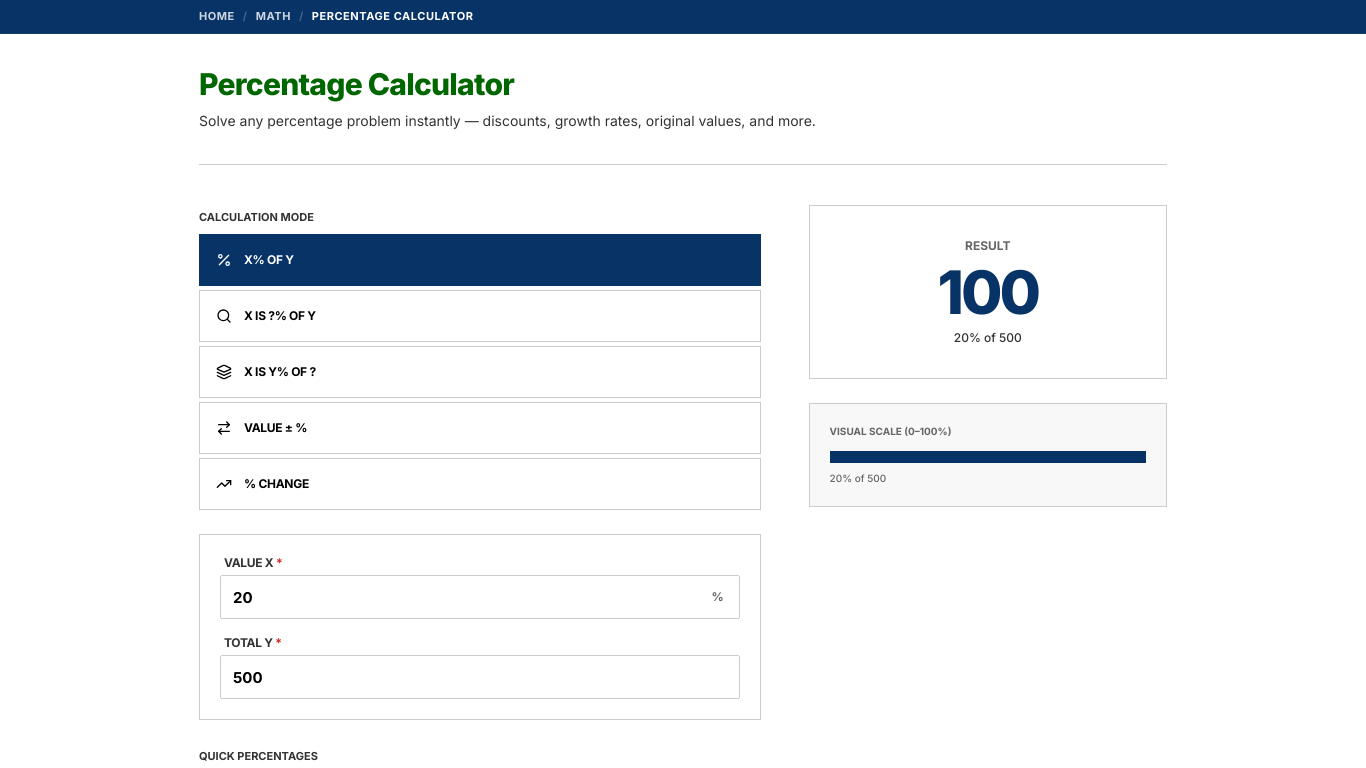
Test: Percentage Calculator Accuracy Test Suite › Type 1: What is X% of Y? (15% of 2500 = 375)
Type 1: Val1 (15) and Val2 (2500)
Replace the text in the number field labelled "Value X *" with "15": [480, 597] box [220,575,740,619]
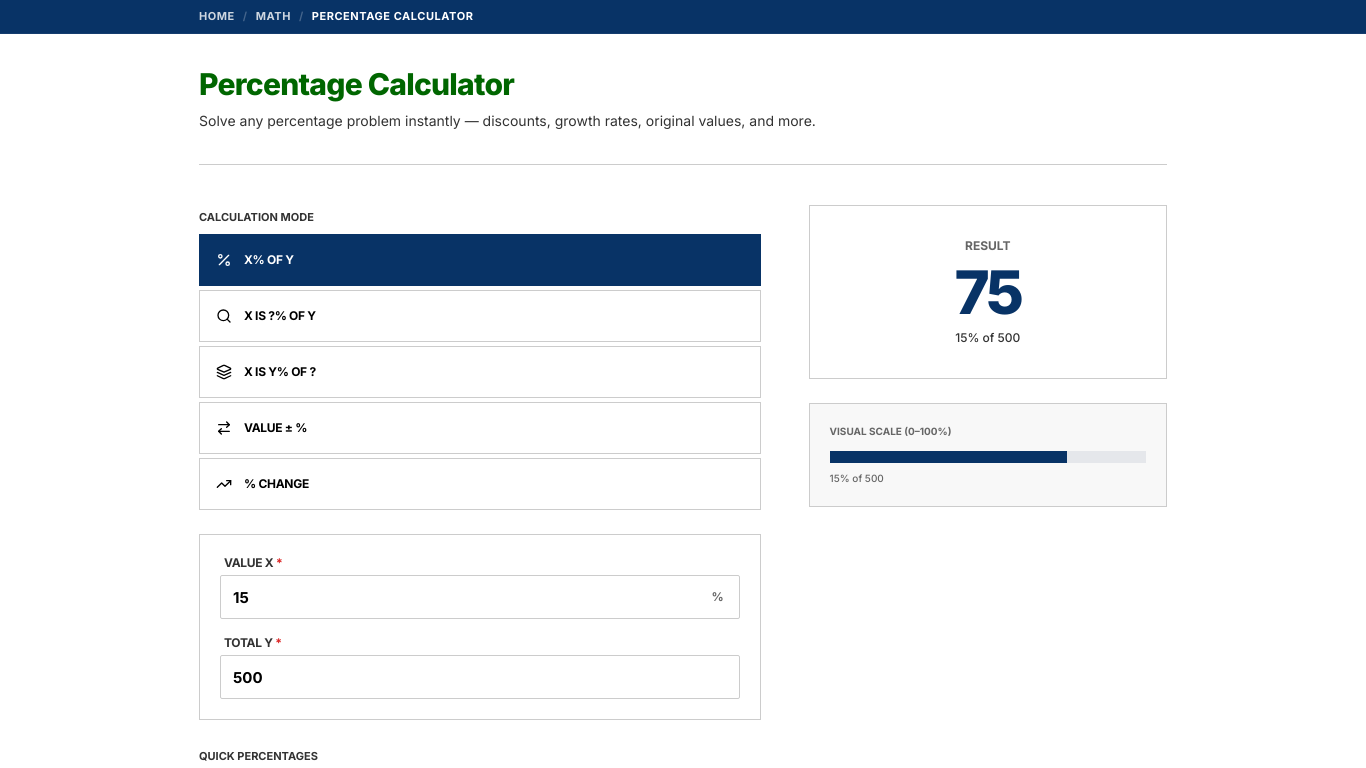
Replace the text in the number field labelled "Total Y *" with "2500": [480, 677] box [220,655,740,699]
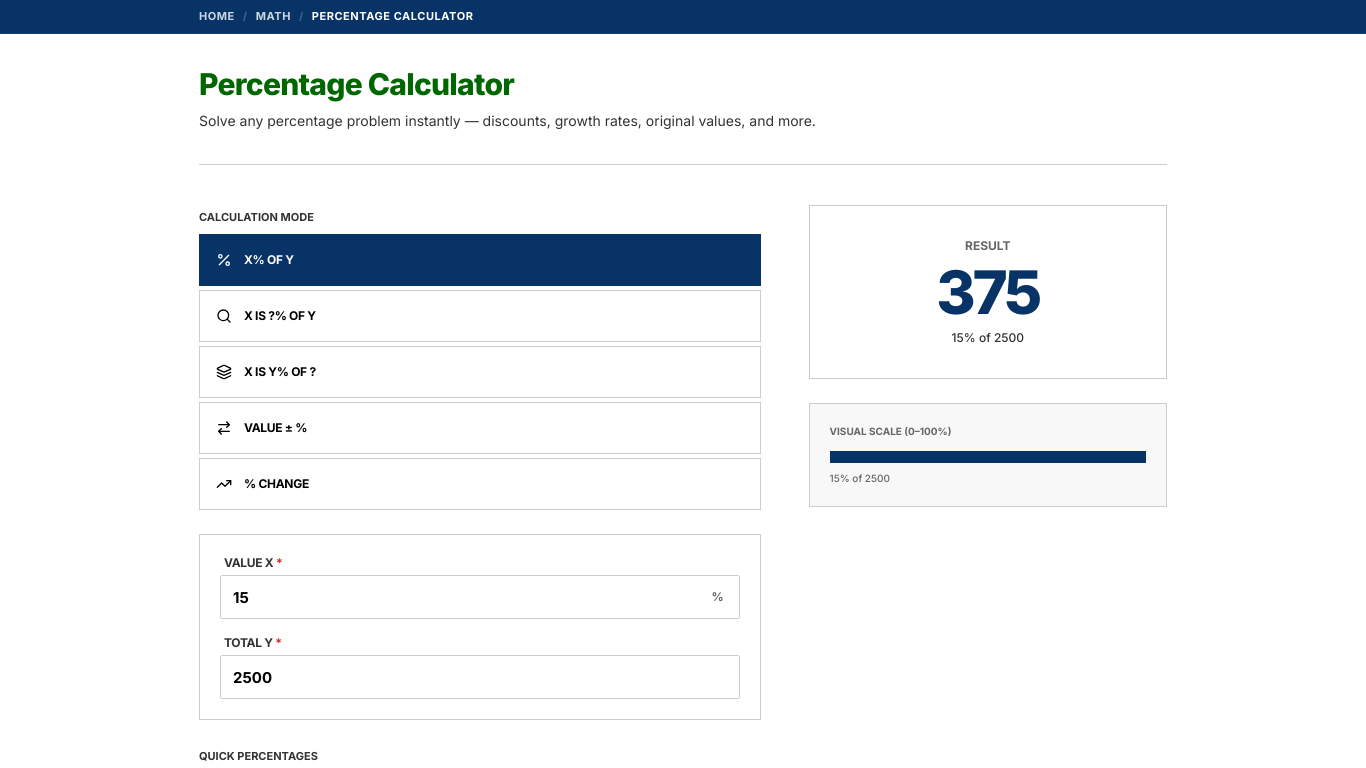
expect the text "375" is shown: met, box [936,256,1039,328]
